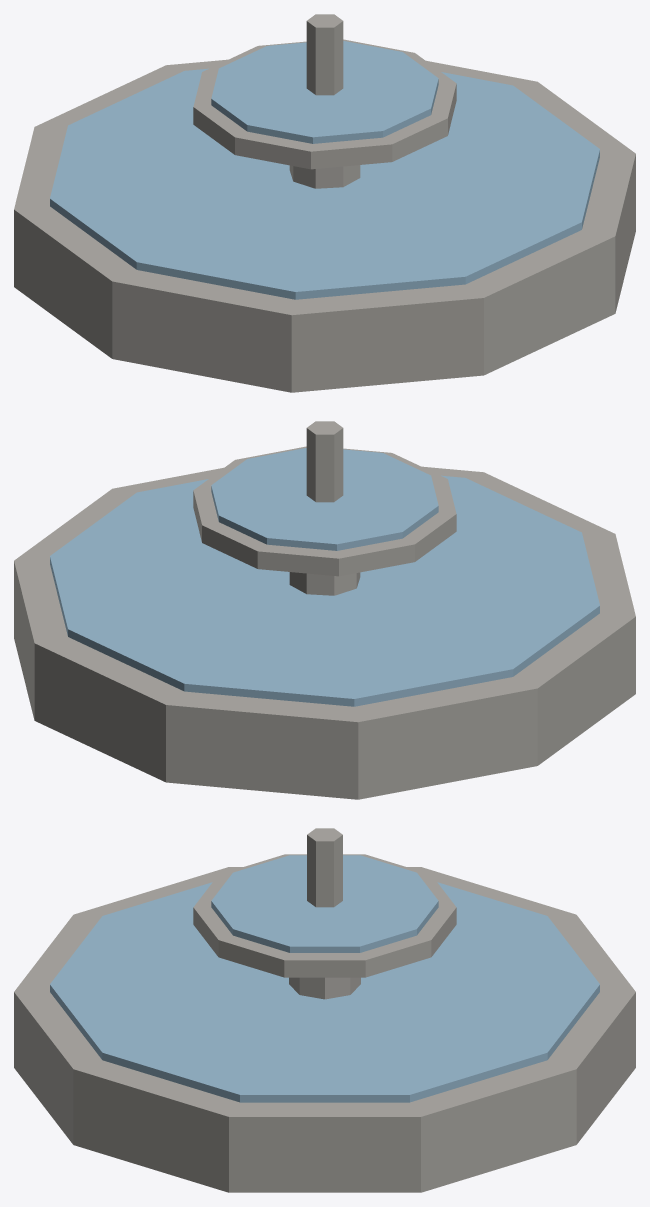
The model's file is Cesme.glb.
3 views of the same model, one above another, from view 1: azimuth 30°, elevation 25°; view 2: azimuth 150°, elevation 25°; view 3: azimuth 270°, elevation 25° (orthographic). The views are drawn at different scales.
Parts seen in each view (by area): view 1: Cesme; view 2: Cesme; view 3: Cesme.
Boxes of the visible parts, x1,y1,x2,y2 form: Cesme: (14,14,635,392); Cesme: (14,421,635,799); Cesme: (14,828,635,1192).
Bounding box in the file's own units: 4.95 × 2.15 × 5.2.
